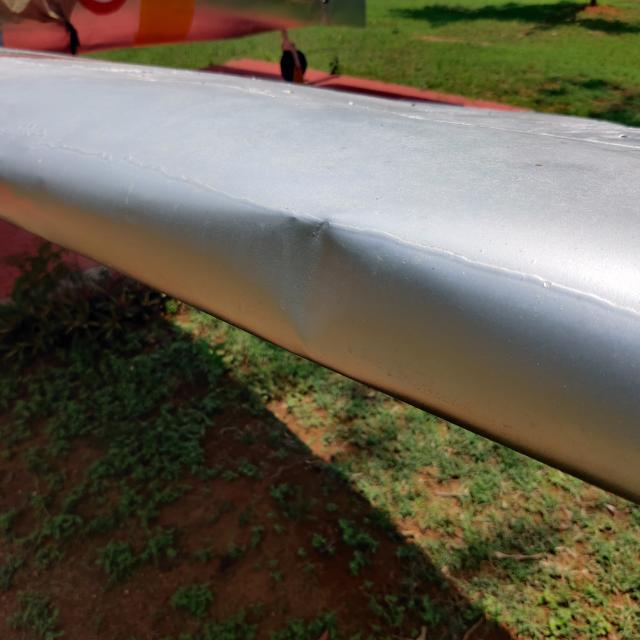dent: (250, 198, 367, 356)
